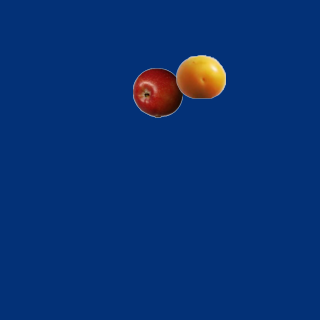Apple Braeburn: (132, 67, 182, 117)
Cherry Wax Yellow: (175, 51, 225, 101)
